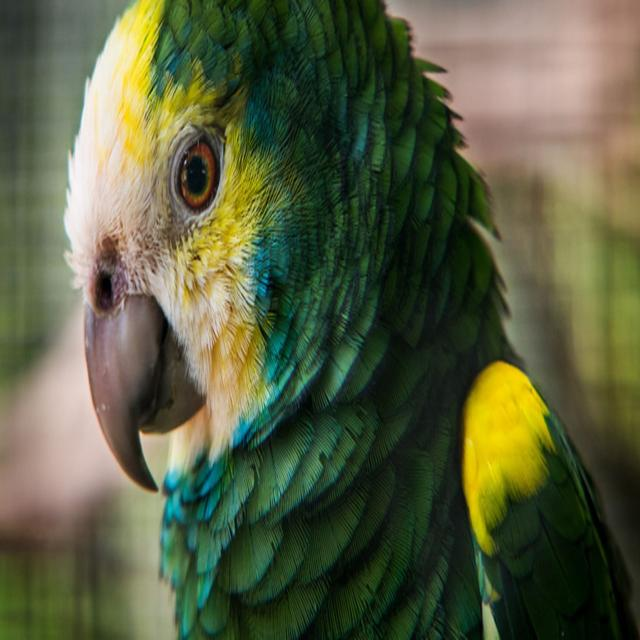parrot: (64, 0, 637, 639)
